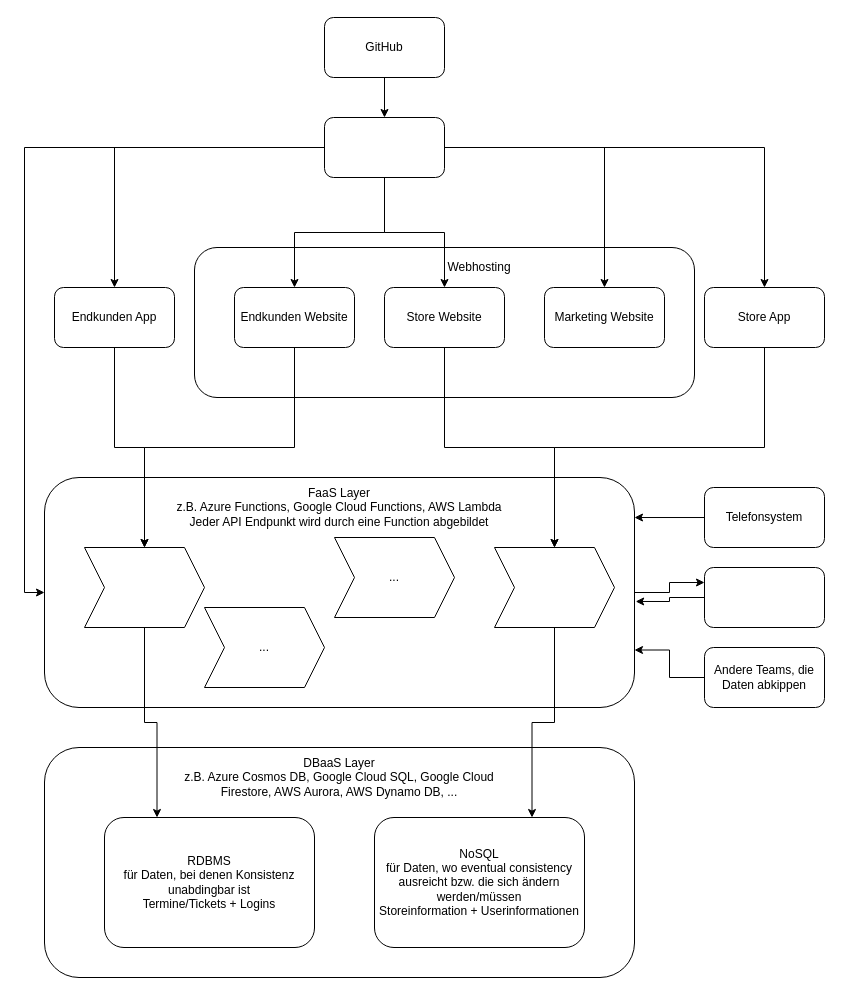
This 842x995 diagram has some shape labels left out. Here are the shapes that lost their labels. From the top down, the box of each, then its label:
(324, 116, 444, 178): CI/CD
(84, 546, 204, 628): Termin buchen
(494, 546, 614, 628): Kapazität anpassen
(704, 566, 824, 628): Maps API
